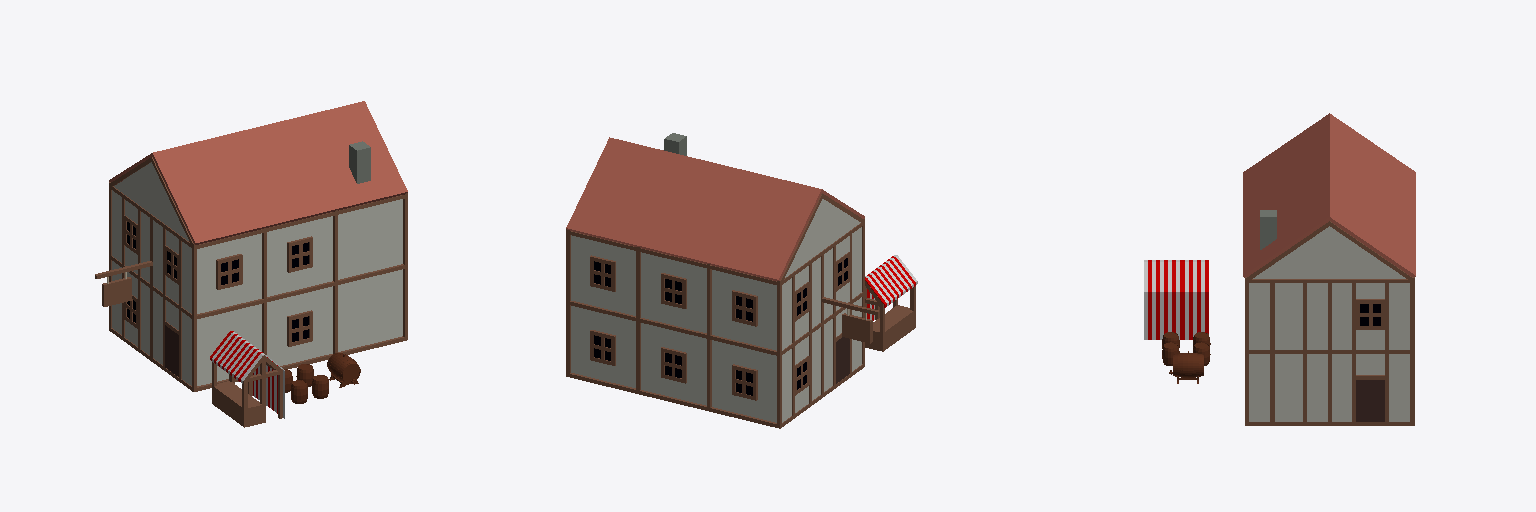
Rendered from timberframedvintner_red_white.obj.
3 renders of one model, left to right at view 1: azimuth 30°, elevation 25°; view 2: azimuth 150°, elevation 25°; view 3: azimuth 270°, elevation 25°, orthographic.
Parts seen in each view (by area): view 1: Cube.005, Cube.007_Cube.011, Cube.011_Cube.015, Cube.018_Cube.016, Cube.056_Cube.081, barrel_Untitled, Cube.001_Cube.058, Cube.013_Cube.080, Cube.006_Cube.010, Cube.026_Cube.019, Cube.073_Cube.078, Cube.012_Cube.017 (+6 smaller); view 2: Cube.005, Cube.007_Cube.011, Cube.023_Cube.026, Cube.022_Cube.025, Cube.021_Cube.024, Cube.015_Cube.020, Cube.019_Cube.022, Cube.017_Cube.021, Cube.014_Cube.018, Cube.008, Cube.020_Cube.023, Cube.073_Cube.078 (+6 smaller); view 3: Cube.005, Cube.007_Cube.011, Cube.147_Cube.153, Cube.003, Cube.033, barrel_Untitled, Cube.027, Cube.047_Cube.049, Cube.031, Cube.006_Cube.010, Cube.016_Cube.013, Cube.012_Cube.017 (+5 smaller).
Part boxes in pixels (x1,y1,x2,y2): Cube.005: (112,162,402,385); Cube.007_Cube.011: (109,101,407,244); Cube.011_Cube.015: (195,264,406,319); Cube.018_Cube.016: (195,195,406,249); Cube.056_Cube.081: (216,254,242,289); barrel_Untitled: (327,353,360,387); Cube.001_Cube.058: (287,310,312,346); Cube.013_Cube.080: (287,236,312,272); Cube.006_Cube.010: (349,141,370,183); Cube.026_Cube.019: (192,243,196,391); Cube.073_Cube.078: (102,277,131,306); Cube.012_Cube.017: (403,193,407,339); Cube.005: (571,199,861,422); Cube.007_Cube.011: (566,137,864,280); Cube.023_Cube.026: (567,373,776,427); Cube.022_Cube.025: (567,301,777,355); Cube.021_Cube.024: (570,231,776,284); Cube.015_Cube.020: (732,290,757,326); Cube.019_Cube.022: (661,347,686,383); Cube.017_Cube.021: (590,330,615,365); Cube.014_Cube.018: (661,273,686,308); Cube.008: (590,255,615,291); Cube.020_Cube.023: (732,364,757,400); Cube.073_Cube.078: (842,313,872,343); Cube.005: (1249,226,1409,421); Cube.007_Cube.011: (1243,113,1415,277); Cube.147_Cube.153: (1144,292,1208,339); Cube.003: (1356,380,1384,421); Cube.033: (1356,299,1384,329); barrel_Untitled: (1169,351,1203,383); Cube.027: (1410,277,1414,425); Cube.047_Cube.049: (1270,279,1274,423); Cube.031: (1249,422,1410,425); Cube.006_Cube.010: (1260,210,1276,249); Cube.016_Cube.013: (1248,350,1409,353); Cube.012_Cube.017: (1245,277,1248,425).
Bounding box in the file's own units: 15.3 × 11.25 × 13.34.